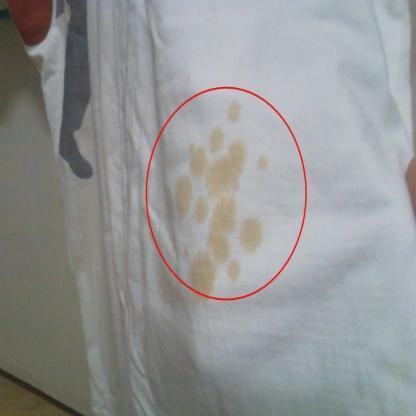coffee: (209, 142, 248, 193), (215, 200, 233, 230), (191, 263, 213, 287), (243, 221, 259, 250), (190, 145, 205, 174), (178, 180, 190, 212), (212, 236, 226, 259), (212, 132, 220, 149), (229, 264, 237, 278), (198, 202, 204, 218), (232, 103, 238, 119)
